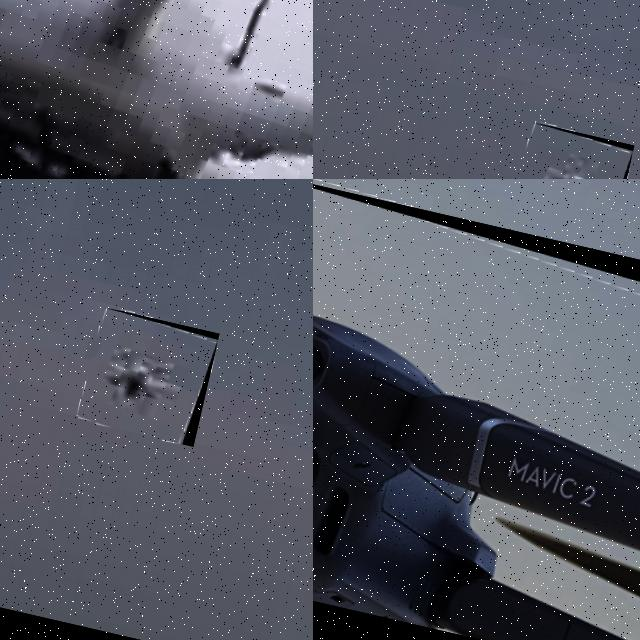0: (0, 0, 313, 179), (77, 306, 219, 446), (510, 121, 633, 179)
drone: (313, 179, 640, 640)
